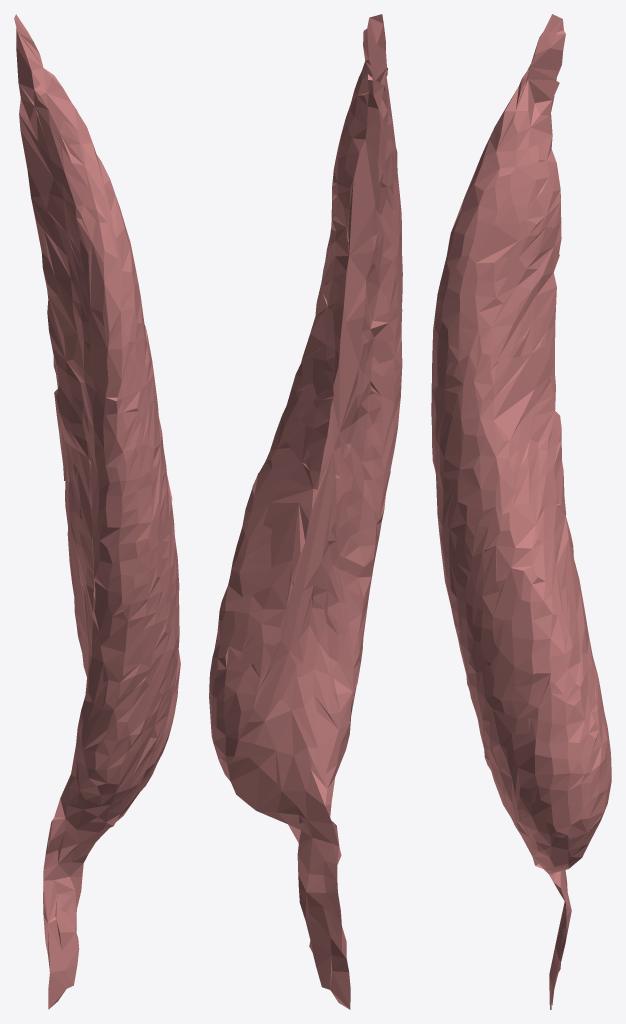
Rendered from Vastus_medialis_muscle.r.glb.
The picture shows the model from 3 angles, left to right: view 1: azimuth 30°, elevation 25°; view 2: azimuth 150°, elevation 25°; view 3: azimuth 270°, elevation 25°; orthographic projection. The views are drawn at different scales.
Visible parts, largest first — view 1: Vastus_medialis_muscle.r; view 2: Vastus_medialis_muscle.r; view 3: Vastus_medialis_muscle.r.
Boxes of the visible parts, box(x1,y1,x2,y2) form: Vastus_medialis_muscle.r: box(14, 14, 180, 1009); Vastus_medialis_muscle.r: box(209, 14, 402, 1009); Vastus_medialis_muscle.r: box(431, 14, 611, 1009).
Bounding box in the file's own units: 0.0684 × 0.4011 × 0.0669.
